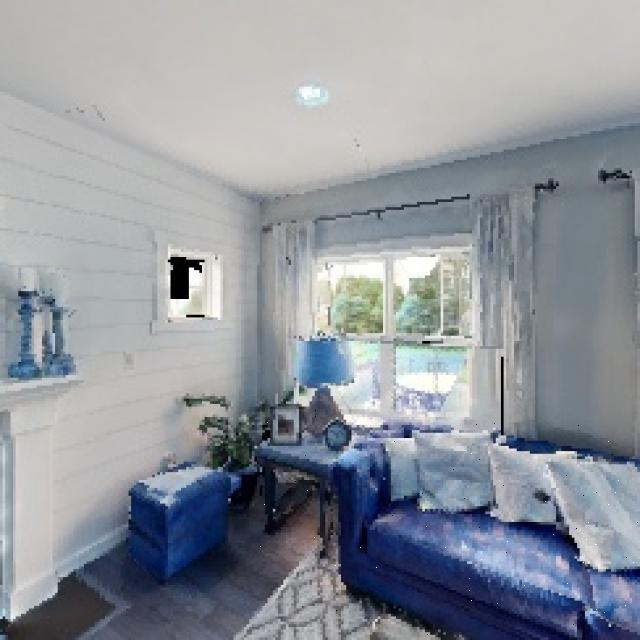sofa: (317, 414, 640, 640)
table: (260, 394, 358, 567)
